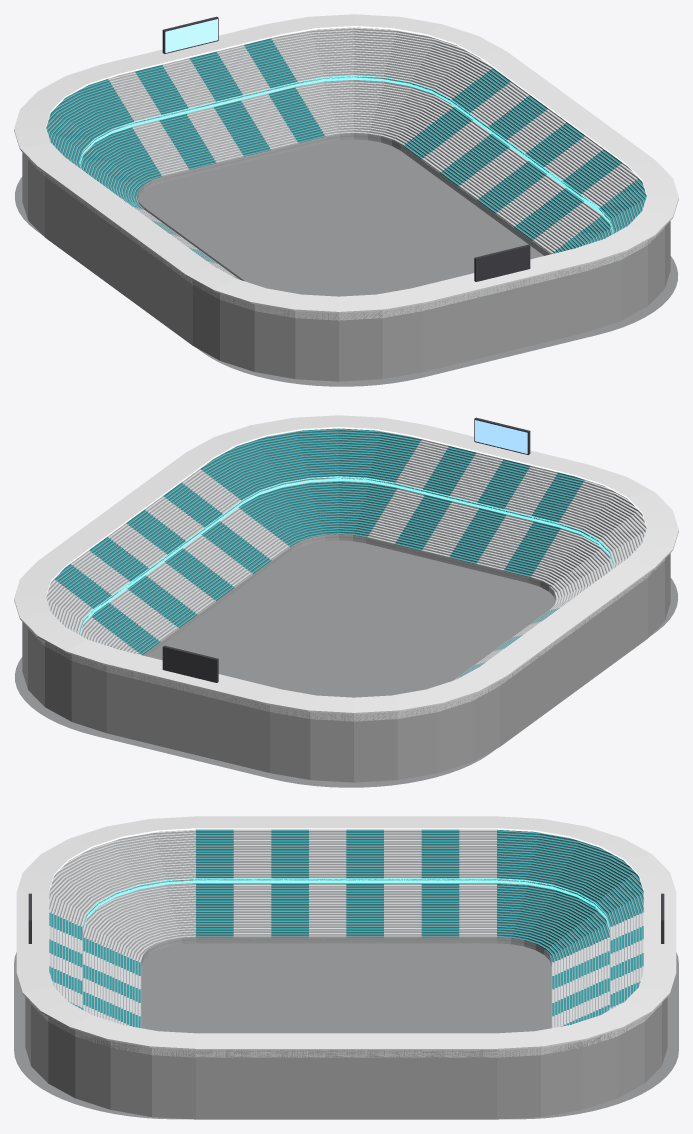
File: crescent_bowl.glb
3 views of the same model, one above another, from view 1: azimuth 30°, elevation 25°; view 2: azimuth 150°, elevation 25°; view 3: azimuth 270°, elevation 25° (orthographic).
Visible parts, largest first — view 1: Shell_Stands, Shell_Ground, COL_Shell_Stands, Shell_Roof; view 2: Shell_Stands, Shell_Ground, COL_Shell_Stands, Shell_Roof; view 3: Shell_Stands, COL_Shell_Stands, Shell_Ground, Shell_Roof.
Boxes of the visible parts, left/top/right/bottom form: Shell_Stands: left=28, top=27, right=665, bottom=320; Shell_Ground: left=15, top=139, right=677, bottom=386; COL_Shell_Stands: left=22, top=152, right=670, bottom=381; Shell_Roof: left=14, top=14, right=678, bottom=313; Shell_Stands: left=28, top=428, right=664, bottom=721; Shell_Ground: left=15, top=540, right=677, bottom=787; COL_Shell_Stands: left=22, top=553, right=670, bottom=782; Shell_Roof: left=14, top=415, right=678, bottom=714; Shell_Stands: left=30, top=829, right=662, bottom=1057; COL_Shell_Stands: left=25, top=997, right=667, bottom=1119; Shell_Ground: left=14, top=943, right=678, bottom=1119; Shell_Roof: left=16, top=816, right=676, bottom=1050.
Size of the model in its own units: 161 by 32.32 by 195.
